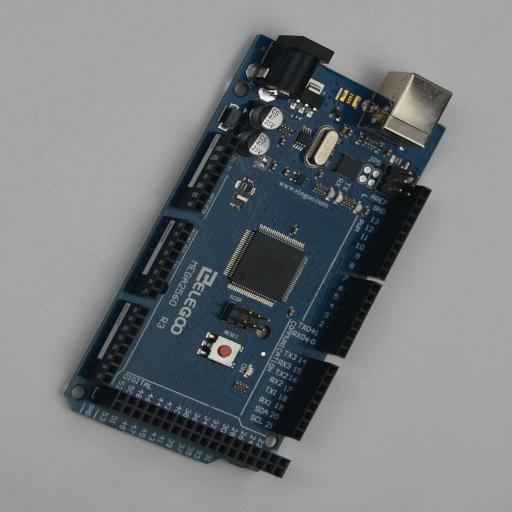Arduino Mega 2560 -Blue-: (64, 34, 452, 478)
